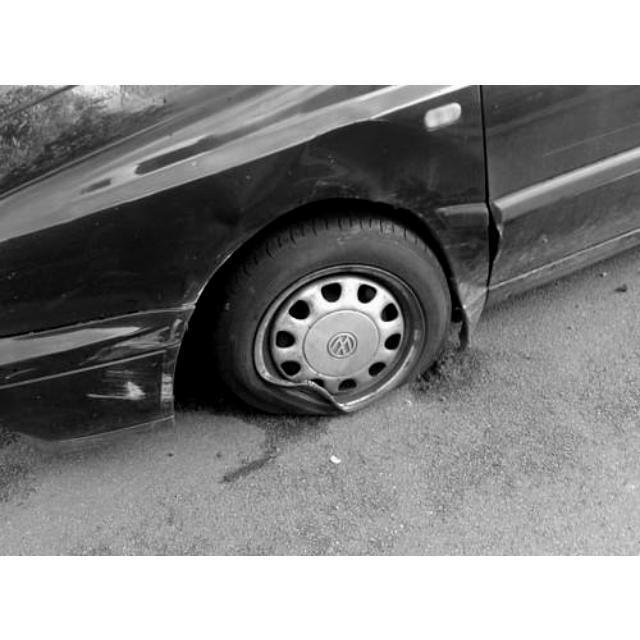fender-dent: (166, 105, 553, 348), (1, 325, 186, 436)
